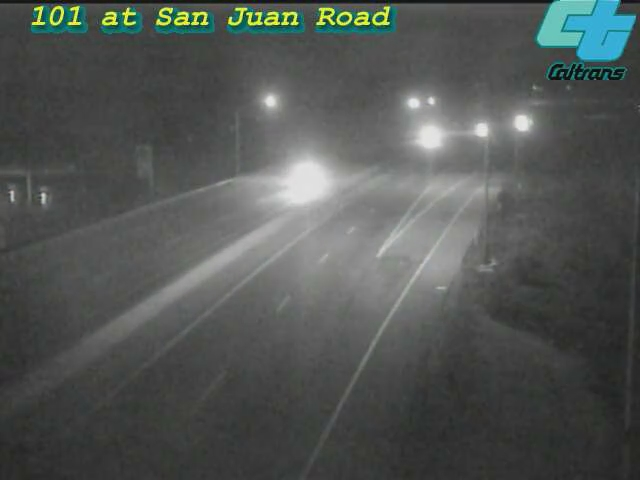vehicle: (262, 141, 342, 221), (402, 113, 452, 163), (458, 104, 508, 154), (497, 98, 547, 148)
